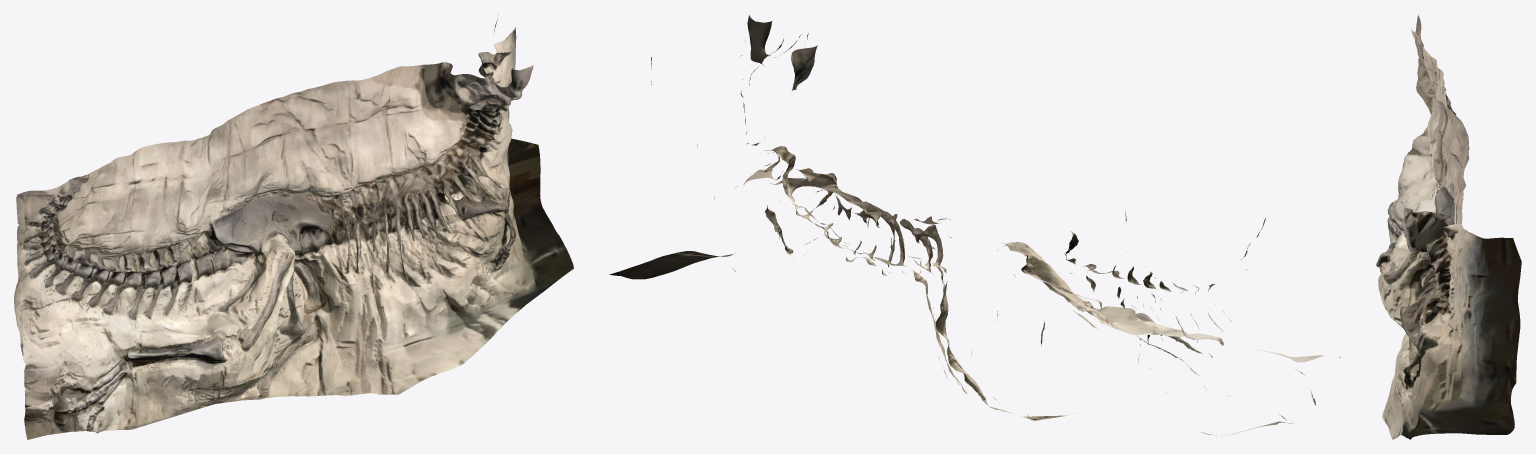
Rendered from tyrannosaurus_fossil.glb.
3 views of the same model, side by side, from view 1: azimuth 30°, elevation 25°; view 2: azimuth 150°, elevation 25°; view 3: azimuth 270°, elevation 25° (orthographic). The views are drawn at different scales.
Visible parts, largest first — view 1: ObjectCapture; view 2: ObjectCapture; view 3: ObjectCapture.
Part boxes in pixels (x1,y1,x2,y2): ObjectCapture: (14,14,573,439); ObjectCapture: (609,15,1341,435); ObjectCapture: (1376,15,1521,439).
Size of the model in its own units: 6.33 by 2.99 by 1.54.
1 material, 1 textured.
